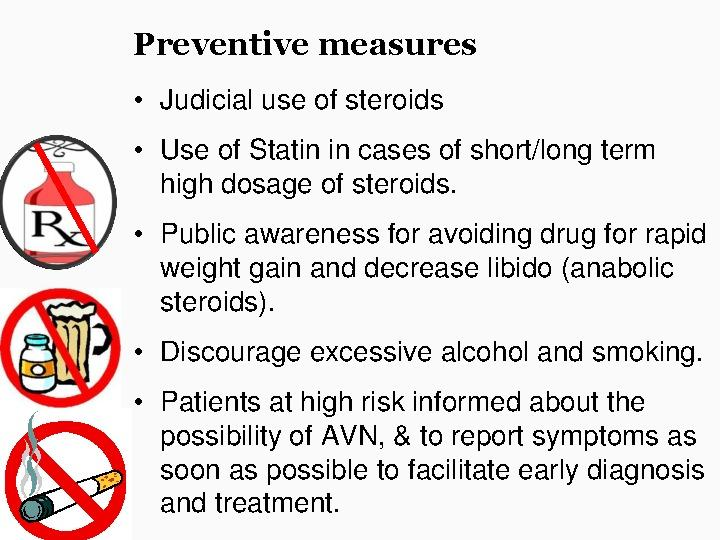paragraph: (126, 82, 720, 540)
title: (124, 18, 502, 78)
